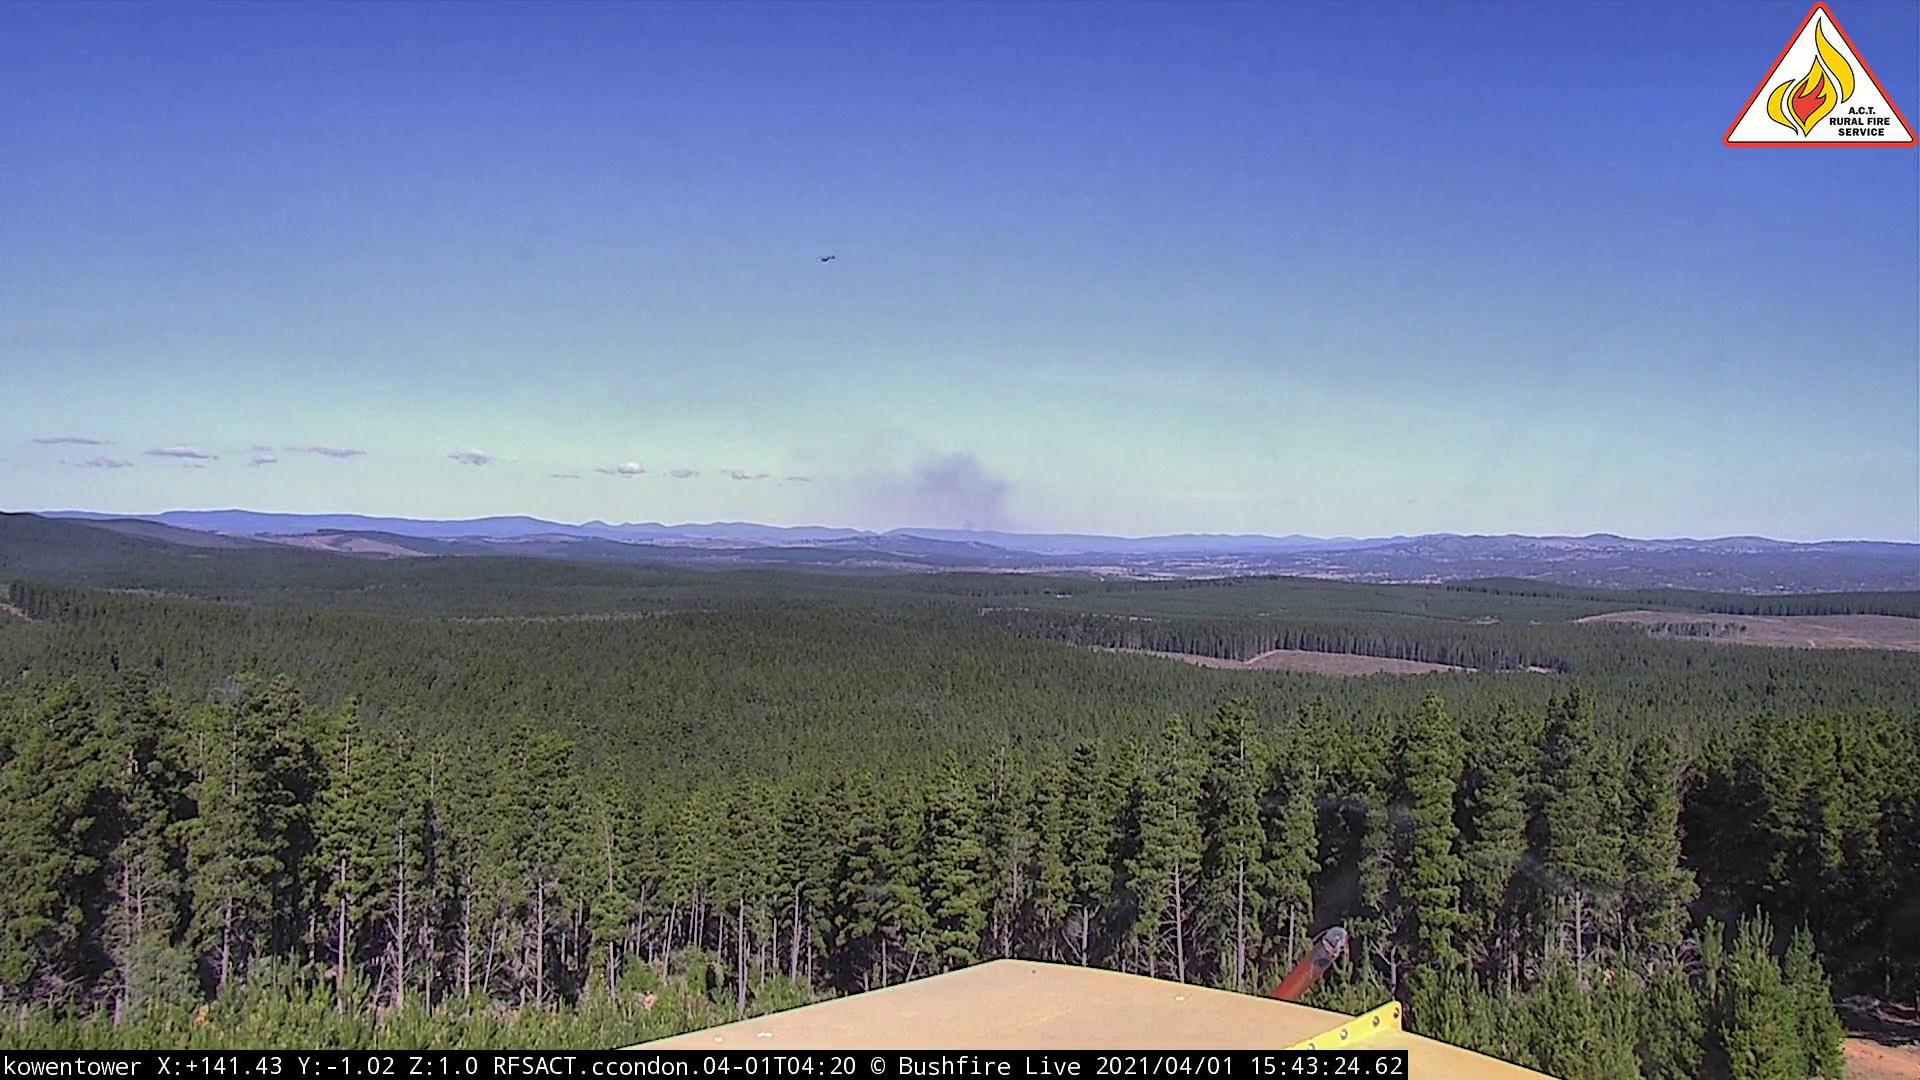Smoke: (829, 429, 1068, 549)
